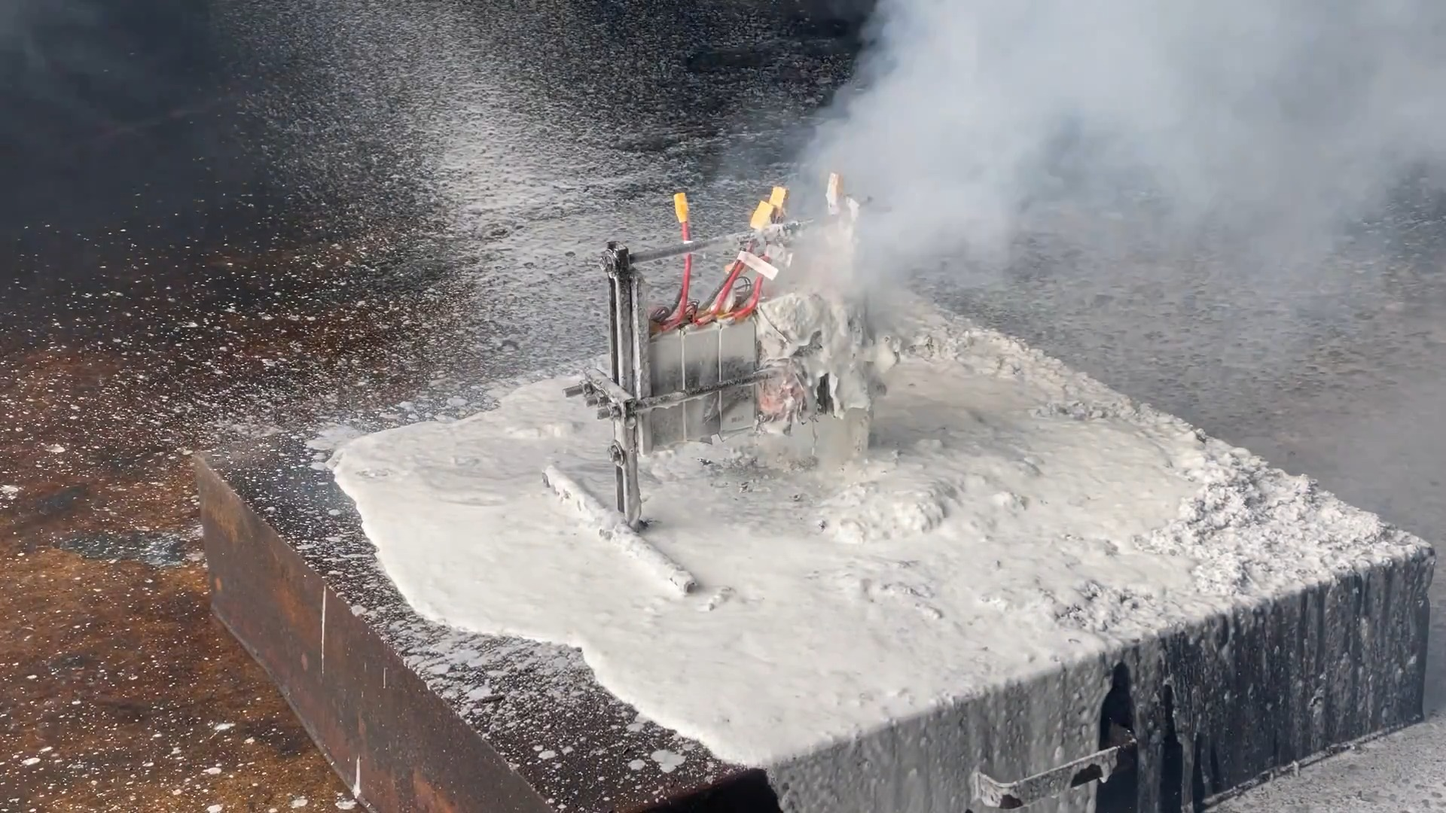smoke: (758, 0, 1446, 319)
